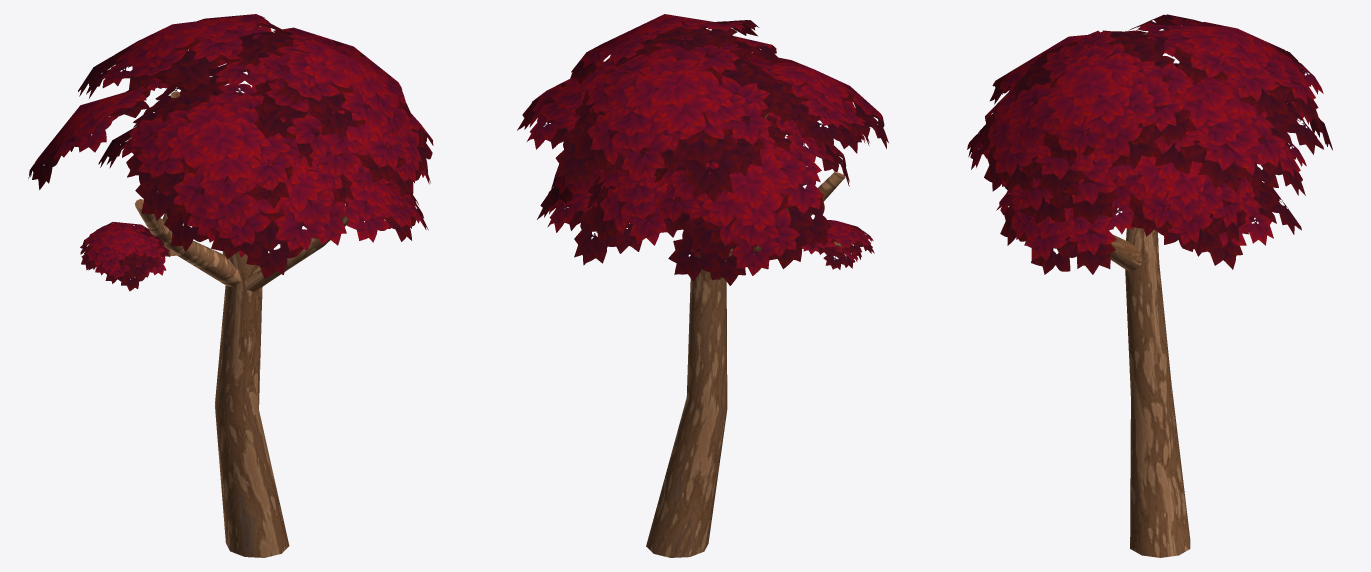
File: arvore-leve.glb
The picture shows the model from 3 angles, left to right: view 1: azimuth 30°, elevation 25°; view 2: azimuth 150°, elevation 25°; view 3: azimuth 270°, elevation 25°; orthographic projection.
Parts seen in each view (by area): view 1: Tree_1_Tree_Leaves_0, Tree_1_Bark_0; view 2: Tree_1_Tree_Leaves_0, Tree_1_Bark_0; view 3: Tree_1_Tree_Leaves_0, Tree_1_Bark_0.
Boxes of the visible parts, bbox=[...] form: Tree_1_Tree_Leaves_0: bbox=[28, 14, 433, 291]; Tree_1_Bark_0: bbox=[135, 91, 348, 557]; Tree_1_Tree_Leaves_0: bbox=[517, 14, 888, 285]; Tree_1_Bark_0: bbox=[646, 113, 852, 557]; Tree_1_Tree_Leaves_0: bbox=[967, 14, 1332, 274]; Tree_1_Bark_0: bbox=[1110, 33, 1190, 557].
Bounding box in the file's own units: 4.14 × 5.54 × 4.13.
Materials: 2 (2 with a texture image).
